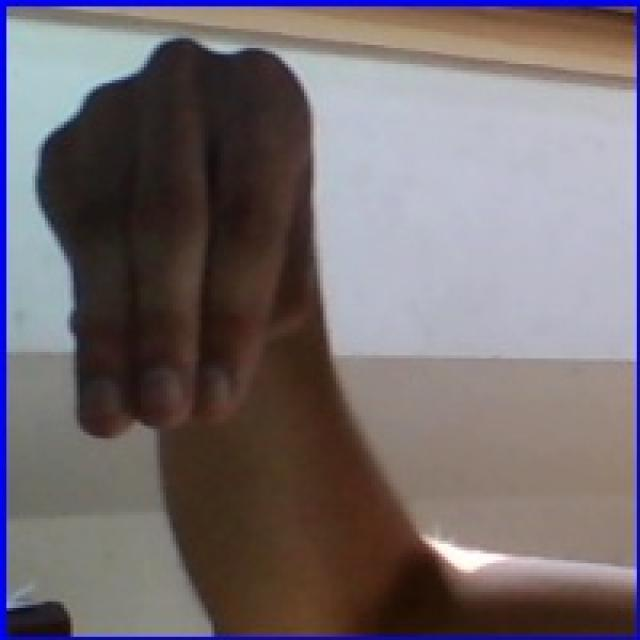Letra M: (22, 22, 370, 479)
